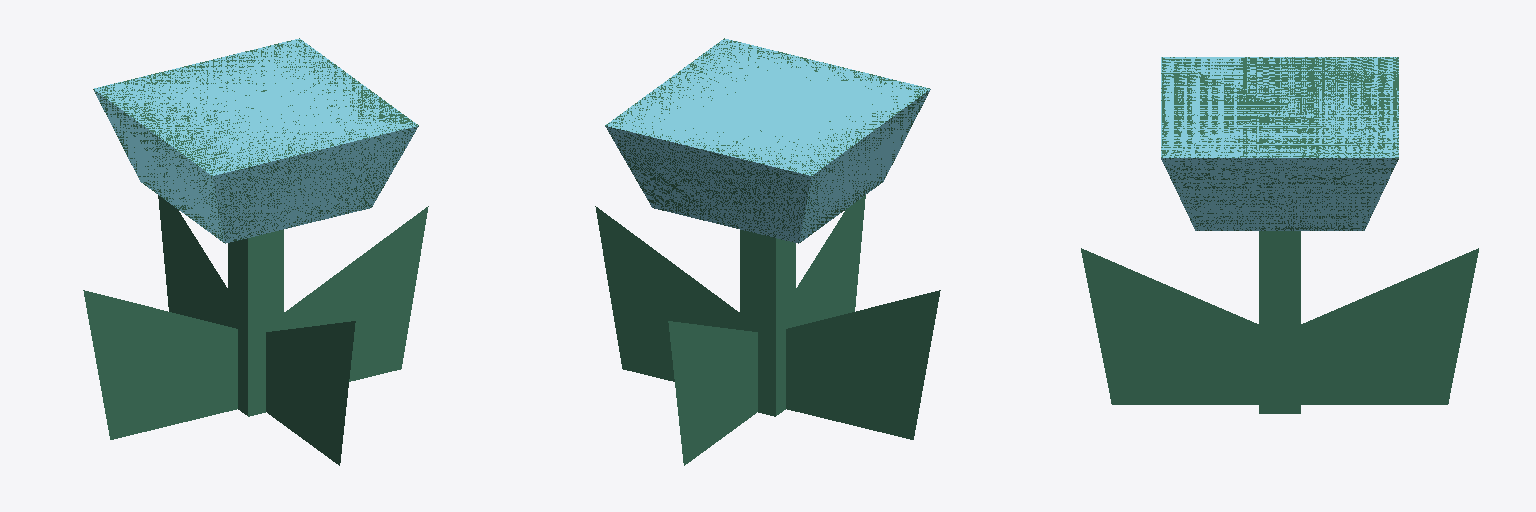
The model's file is Flower_Yellow_01.obj.
3 renders of one model, left to right at view 1: azimuth 30°, elevation 25°; view 2: azimuth 150°, elevation 25°; view 3: azimuth 270°, elevation 25°, orthographic.
Parts seen in each view (by area): view 1: Mesh3 Flower_Yellow Model, Mesh4 Flower_Yellow Model, Mesh1 Flower_Yellow Model, Mesh2 Flower_Yellow Model, Mesh5 Flower_Yellow Model; view 2: Mesh3 Flower_Yellow Model, Mesh4 Flower_Yellow Model, Mesh1 Flower_Yellow Model, Mesh5 Flower_Yellow Model, Mesh2 Flower_Yellow Model; view 3: Mesh3 Flower_Yellow Model, Mesh2 Flower_Yellow Model, Mesh5 Flower_Yellow Model.
Boxes of the visible parts, x1=… form: Mesh3 Flower_Yellow Model: x1=93, y1=38, x2=418, y2=416; Mesh4 Flower_Yellow Model: x1=83, y1=290, x2=237, y2=439; Mesh1 Flower_Yellow Model: x1=284, y1=206, x2=428, y2=381; Mesh2 Flower_Yellow Model: x1=266, y1=321, x2=355, y2=465; Mesh5 Flower_Yellow Model: x1=158, y1=195, x2=227, y2=325; Mesh3 Flower_Yellow Model: x1=605, y1=38, x2=930, y2=416; Mesh4 Flower_Yellow Model: x1=786, y1=290, x2=940, y2=439; Mesh1 Flower_Yellow Model: x1=595, y1=206, x2=739, y2=381; Mesh5 Flower_Yellow Model: x1=668, y1=321, x2=757, y2=465; Mesh2 Flower_Yellow Model: x1=796, y1=195, x2=865, y2=325; Mesh3 Flower_Yellow Model: x1=1161, y1=57, x2=1398, y2=413; Mesh2 Flower_Yellow Model: x1=1081, y1=248, x2=1258, y2=404; Mesh5 Flower_Yellow Model: x1=1301, y1=248, x2=1478, y2=404.
Size of the model in its own units: 0.4859 by 0.4 by 0.4859.